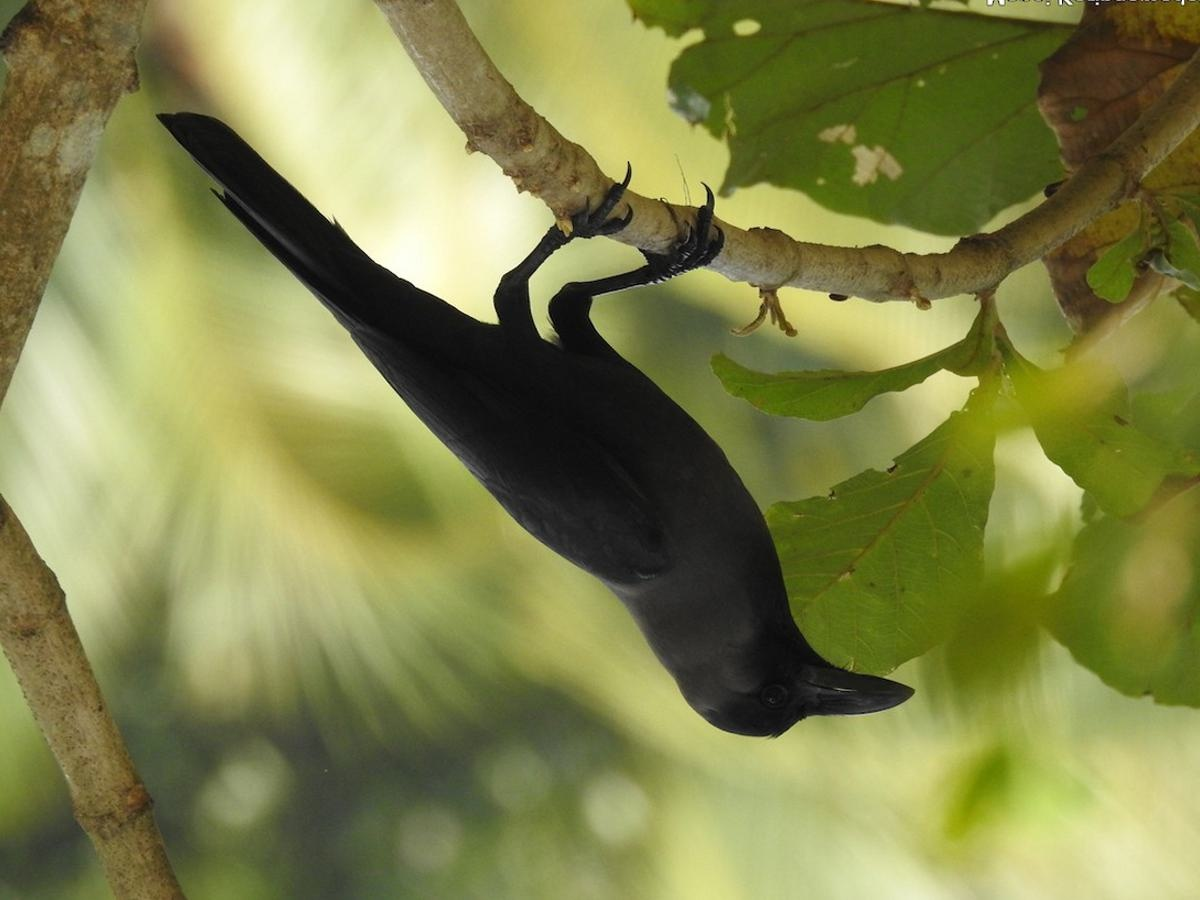crow: (153, 110, 932, 750)
